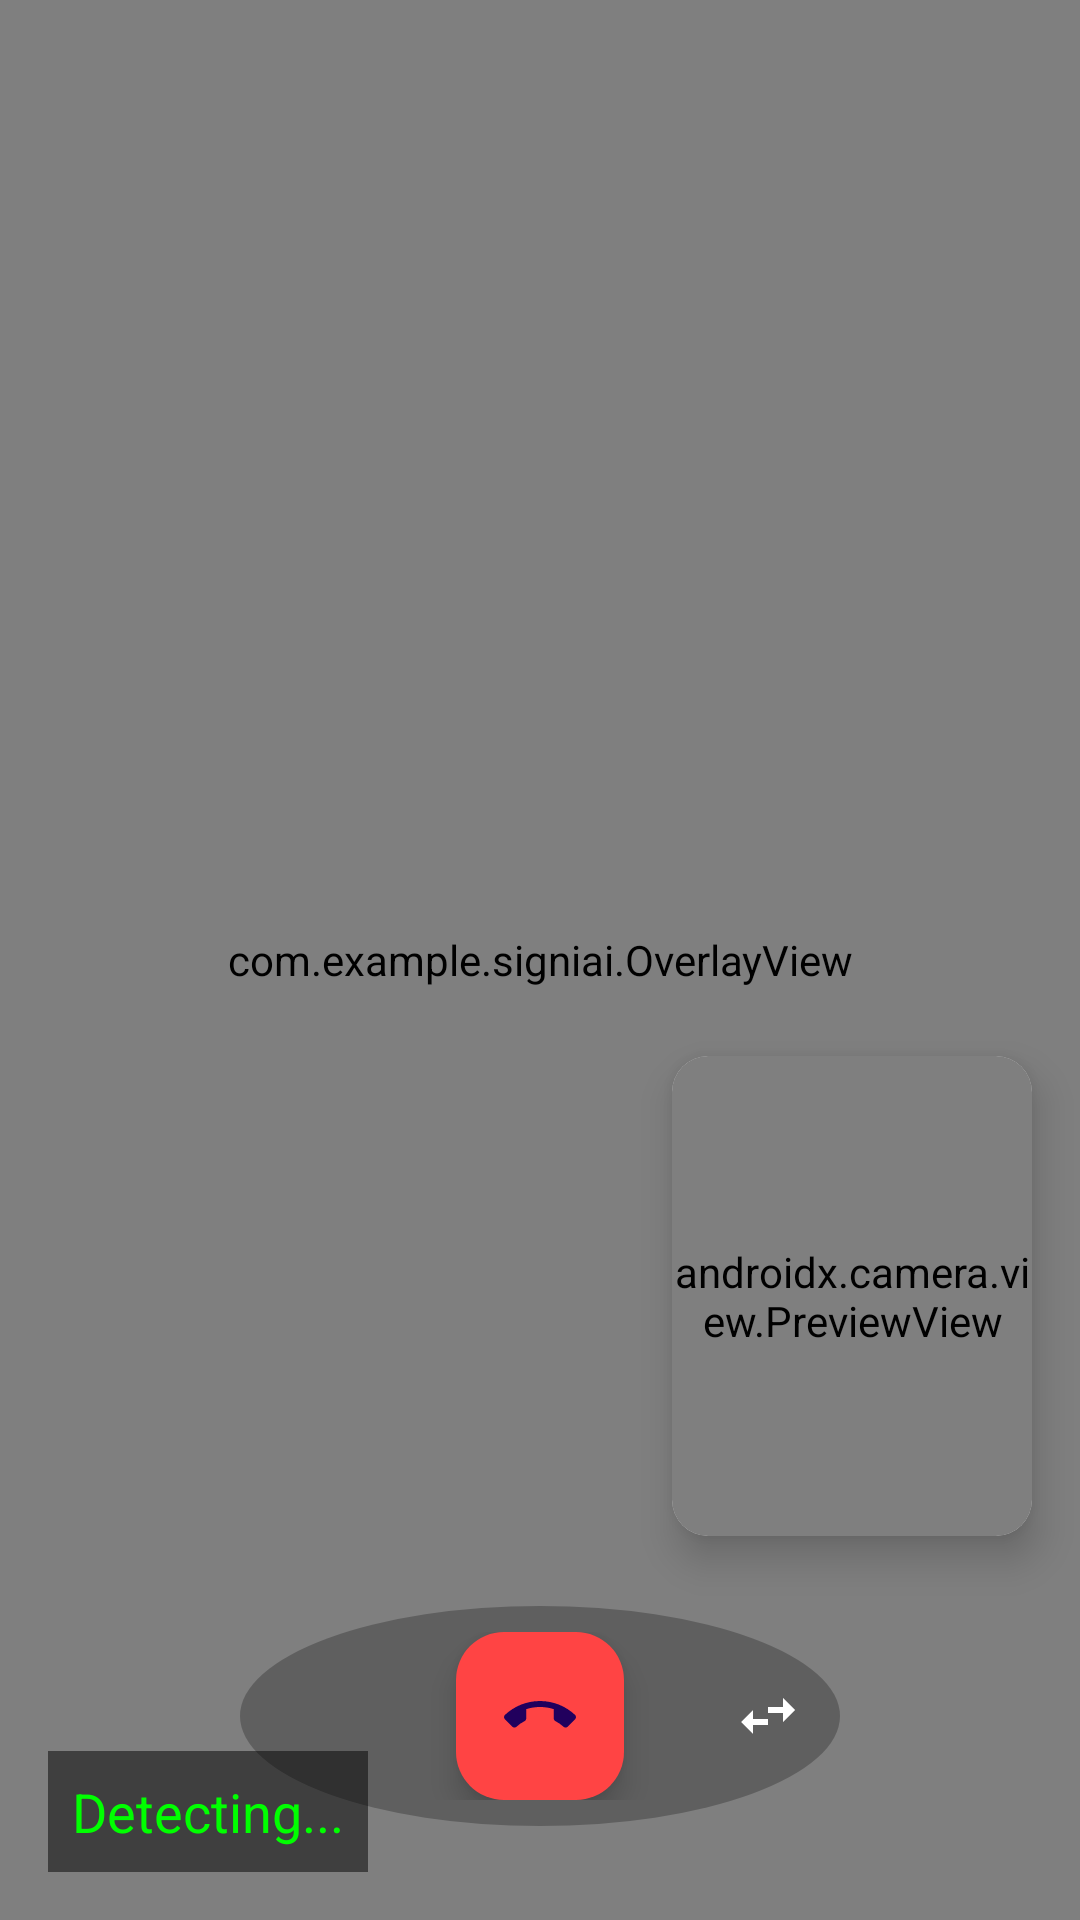

Icon bounding boxes for this 1080px×1920px phone screenshot, format (x1, y1, x2, y2):
End Call: (456, 1632, 624, 1800)
